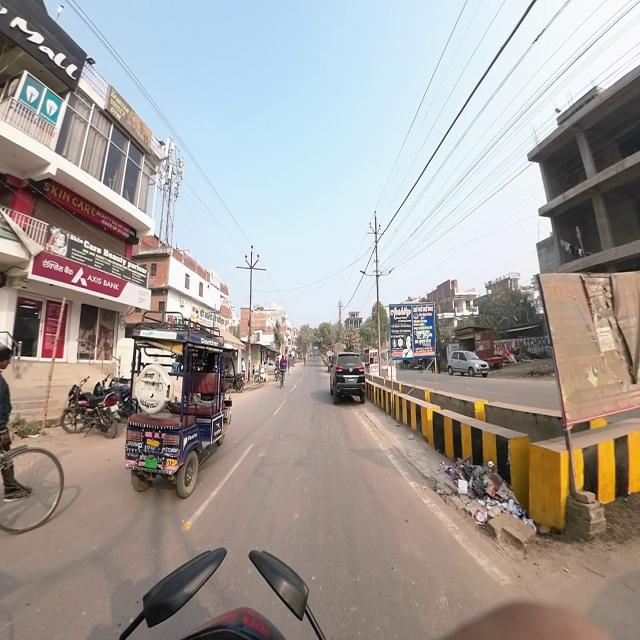Garbage: (445, 457, 520, 513)
